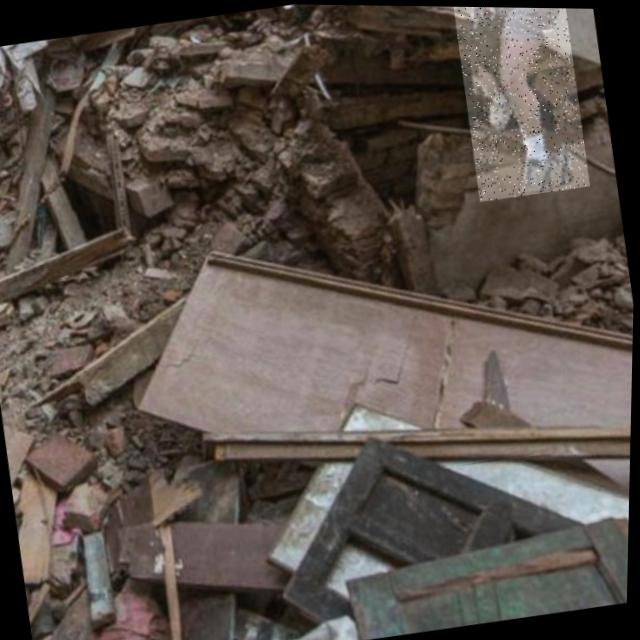Person in Rubble: (449, 5, 594, 202)
